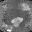people: (11, 17, 23, 27)
